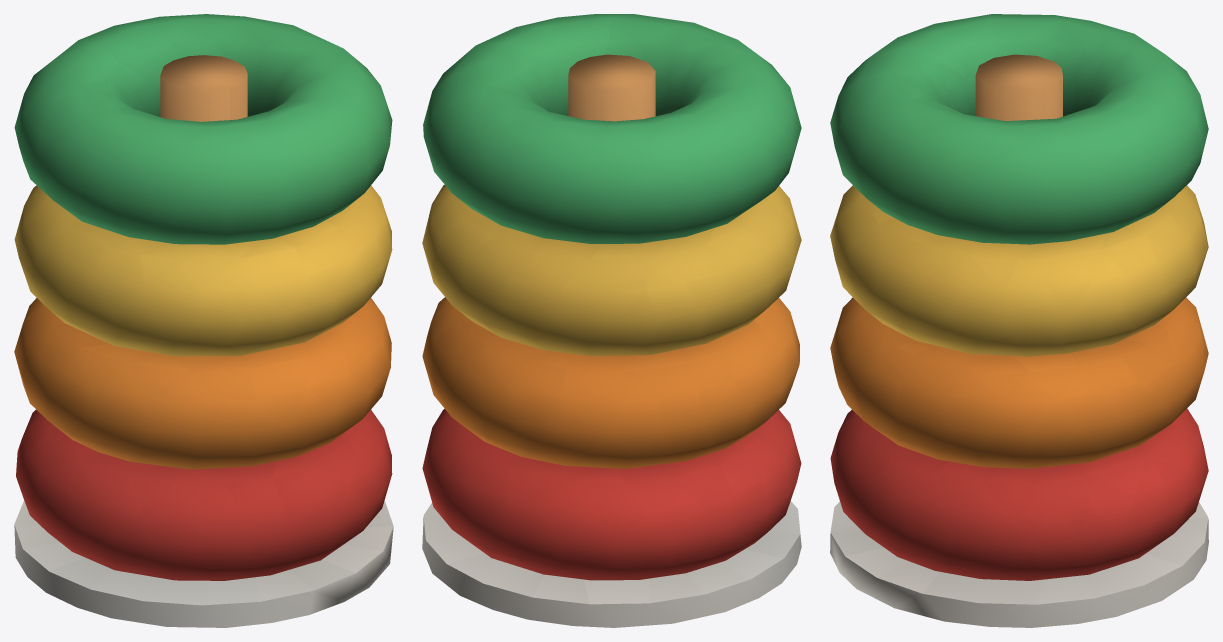
The model's file is den_ring_stack_b_lod1.glb.
The picture shows the model from 3 angles, left to right: view 1: azimuth 30°, elevation 25°; view 2: azimuth 150°, elevation 25°; view 3: azimuth 270°, elevation 25°; orthographic projection.
Parts seen in each view (by area): view 1: den_ring_stack_b.001; view 2: den_ring_stack_b.001; view 3: den_ring_stack_b.001.
Boxes of the visible parts, <box> form: den_ring_stack_b.001: <box>14,14,393,627</box>; den_ring_stack_b.001: <box>422,14,801,627</box>; den_ring_stack_b.001: <box>830,14,1208,627</box>.
Size of the model in its own units: 5.2 by 7.2 by 5.2.
